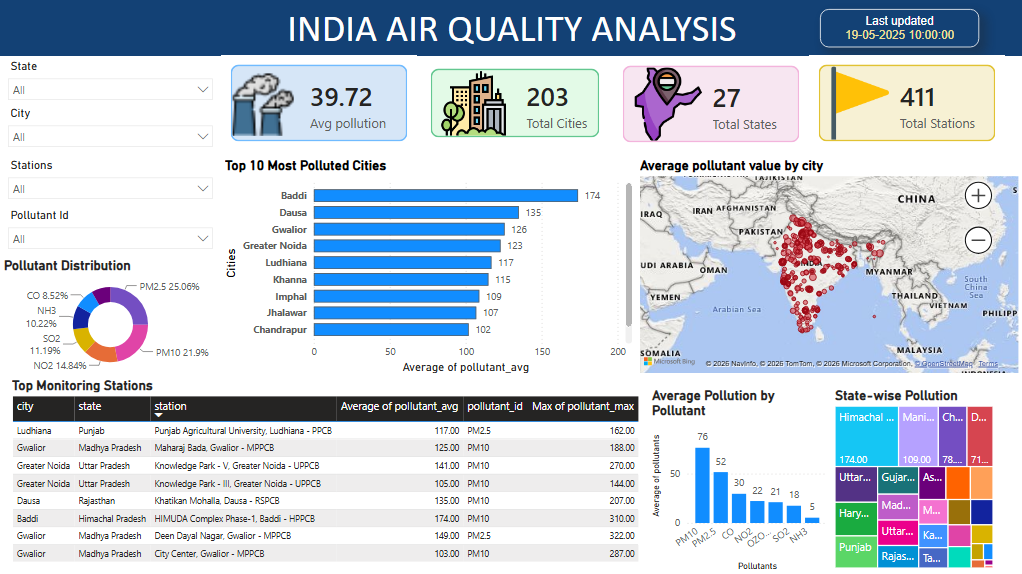

What the dashboard file says about the page in this screenshot:
{"tool":"powerbi","page":{"name":"Page 1","canvas":[1280,720],"ordinal":0},"visuals":[{"type":"textbox","box":[0,0,1280,70],"z":0},{"type":"cardVisual","fields":{"Data":["Avg(AQI.pollutant_avg)"]},"box":[276.2,68.8,245,120],"z":1000},{"type":"textbox","box":[1025,11.2,198.8,47.5],"z":2000},{"type":"cardVisual","fields":{"Data":["AQI.Total Stations"]},"box":[1011.2,68.8,245,120],"z":3000},{"type":"cardVisual","fields":{"Data":["AQI.Total States"]},"box":[766.2,70,245,120],"z":4000},{"type":"cardVisual","fields":{"Data":["AQI.Total Cities"]},"box":[521.2,68.8,245,120],"z":5000},{"type":"clusteredBarChart","title":"Top 10 Most Polluted Cities","fields":{"Category":["AQI.city"],"Y":["Avg(AQI.pollutant_avg)"]},"box":[276.2,196.2,518.8,275],"z":6000},{"type":"map","title":"Average pollutant value by city","fields":{"Y":["AQI.latitude"],"X":["AQI.longitude"],"Size":["Avg(AQI.pollutant_avg)"]},"box":[795,196.2,482.5,275],"z":7000},{"type":"clusteredColumnChart","title":"Average Pollution by Pollutant","fields":{"Category":["AQI.pollutant_id"],"Y":["Avg(AQI.pollutant_avg)"]},"box":[810,471.2,228.8,247.5],"z":7001},{"type":"treemap","title":"State-wise Pollution","fields":{"Group":["AQI.state"],"Values":["Avg(AQI.pollutant_avg)"]},"box":[1038.8,471.2,238.8,243.8],"z":7002},{"type":"donutChart","title":"Pollutant Distribution","fields":{"Category":["AQI.pollutant_id"],"Y":["CountNonNull(AQI.pollutant_id)"]},"box":[0,321.2,276.2,150],"z":7003},{"type":"tableEx","title":"Top Monitoring Stations","fields":{"Values":["AQI.city","AQI.state","AQI.station","Avg(AQI.pollutant_avg)","AQI.pollutant_id","Max(AQI.pollutant_max)"]},"box":[0,471.2,810,243.8],"z":7004},{"type":"slicer","fields":{"Values":["AQI.state"]},"box":[0,70,276.2,58.8],"z":7005},{"type":"slicer","fields":{"Values":["AQI.city"]},"box":[0,128.8,276.2,65],"z":7006},{"type":"slicer","fields":{"Values":["AQI.pollutant_id"]},"box":[0,256.2,276.2,65],"z":7007},{"type":"slicer","fields":{"Values":["AQI.station"]},"box":[0,193.8,276.2,62.5],"z":7008}]}

Visuals, with their boxes in screenshot pixels (x1, y1, x2, y2), scaled from the page's 1280x720 canvas onto the 1022x574 screenshot:
textbox: (x1=0, y1=0, x2=1021, y2=56)
cardVisual - Avg(AQI.pollutant_avg): (x1=221, y1=55, x2=416, y2=151)
textbox: (x1=818, y1=9, x2=977, y2=47)
cardVisual - AQI.Total Stations: (x1=807, y1=55, x2=1003, y2=151)
cardVisual - AQI.Total States: (x1=612, y1=56, x2=807, y2=151)
cardVisual - AQI.Total Cities: (x1=416, y1=55, x2=612, y2=151)
"Top 10 Most Polluted Cities" clusteredBarChart: (x1=221, y1=156, x2=635, y2=376)
"Average pollutant value by city" map: (x1=635, y1=156, x2=1020, y2=376)
"Average Pollution by Pollutant" clusteredColumnChart: (x1=647, y1=376, x2=829, y2=573)
"State-wise Pollution" treemap: (x1=829, y1=376, x2=1020, y2=570)
"Pollutant Distribution" donutChart: (x1=0, y1=256, x2=221, y2=376)
"Top Monitoring Stations" tableEx: (x1=0, y1=376, x2=647, y2=570)
slicer - AQI.state: (x1=0, y1=56, x2=221, y2=103)
slicer - AQI.city: (x1=0, y1=103, x2=221, y2=155)
slicer - AQI.pollutant_id: (x1=0, y1=204, x2=221, y2=256)
slicer - AQI.station: (x1=0, y1=155, x2=221, y2=204)
